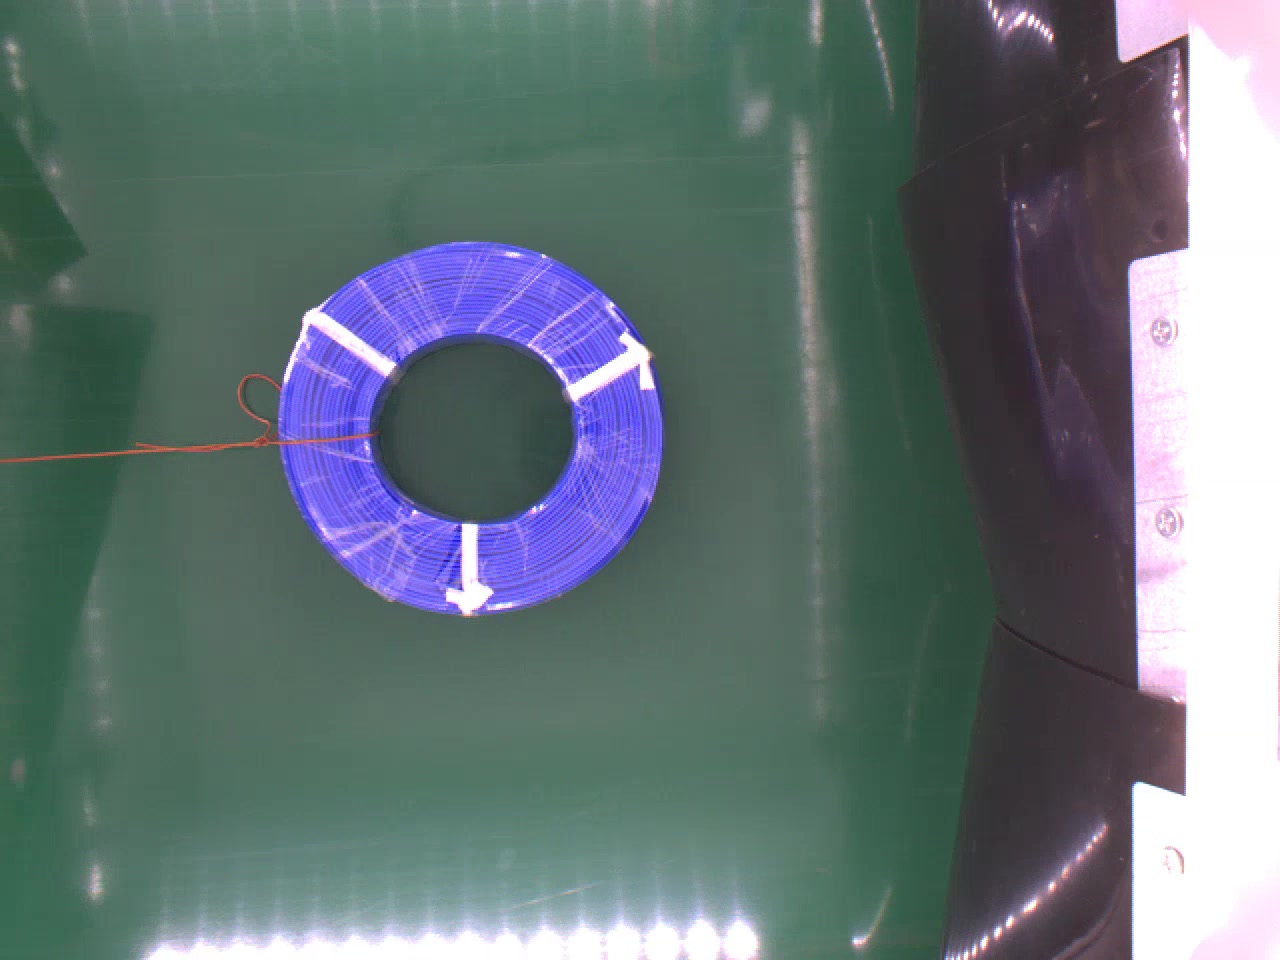blue: (273, 229, 671, 623)
